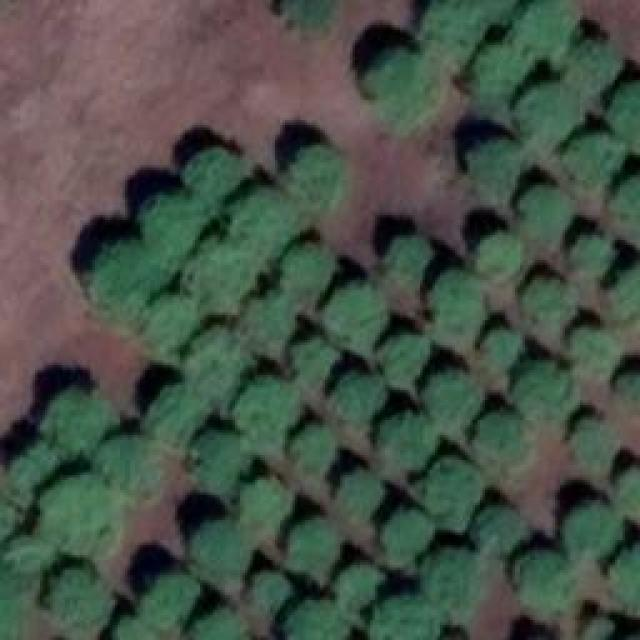Tree: (368, 43, 441, 133), (42, 473, 120, 553), (85, 237, 158, 315), (50, 565, 113, 638), (198, 238, 261, 311), (138, 287, 203, 355), (45, 390, 115, 453), (238, 375, 301, 445), (560, 490, 625, 555), (468, 45, 528, 115), (143, 193, 206, 256), (192, 322, 250, 390), (522, 77, 580, 145), (427, 460, 485, 528), (325, 285, 385, 350), (193, 518, 248, 588), (378, 413, 438, 476), (145, 573, 203, 633), (148, 385, 208, 443), (290, 145, 348, 205), (567, 130, 625, 190), (520, 550, 575, 613), (110, 440, 163, 505), (432, 270, 480, 340), (430, 368, 483, 431), (3, 440, 63, 495), (463, 138, 523, 193), (520, 0, 578, 55), (242, 193, 300, 246), (193, 150, 248, 203), (288, 518, 341, 573), (380, 508, 433, 563), (478, 415, 531, 470), (520, 185, 568, 245), (193, 430, 246, 483), (518, 360, 571, 413), (285, 243, 335, 298), (285, 423, 335, 478), (238, 480, 288, 533), (475, 505, 528, 555), (528, 275, 578, 328), (422, 0, 485, 42), (285, 600, 350, 640), (382, 597, 442, 640), (428, 552, 481, 600), (568, 325, 621, 373), (480, 323, 530, 373), (335, 470, 380, 525), (477, 228, 525, 278), (573, 35, 618, 88), (13, 535, 56, 590), (383, 333, 428, 383), (337, 375, 385, 420), (388, 233, 431, 283), (612, 538, 640, 613), (573, 422, 616, 470), (248, 303, 291, 348), (573, 230, 616, 275), (295, 340, 335, 388), (612, 82, 640, 150), (343, 563, 386, 606), (0, 570, 25, 640), (615, 173, 640, 238), (250, 570, 290, 610), (285, 0, 335, 32), (612, 273, 640, 328), (200, 607, 237, 640), (615, 370, 640, 418), (617, 465, 640, 515), (113, 625, 158, 640)
